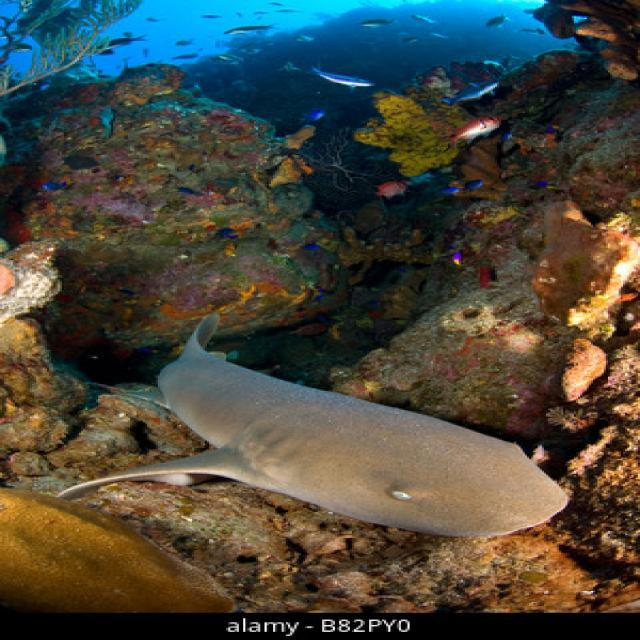Shark: (51, 306, 600, 545)
